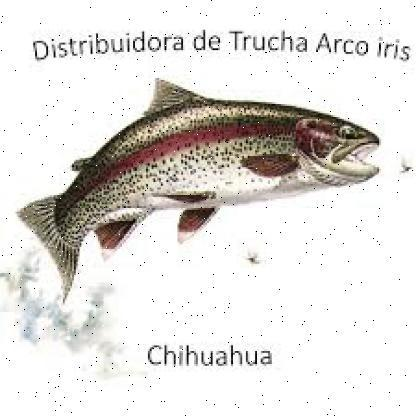fish: (13, 73, 380, 302)
